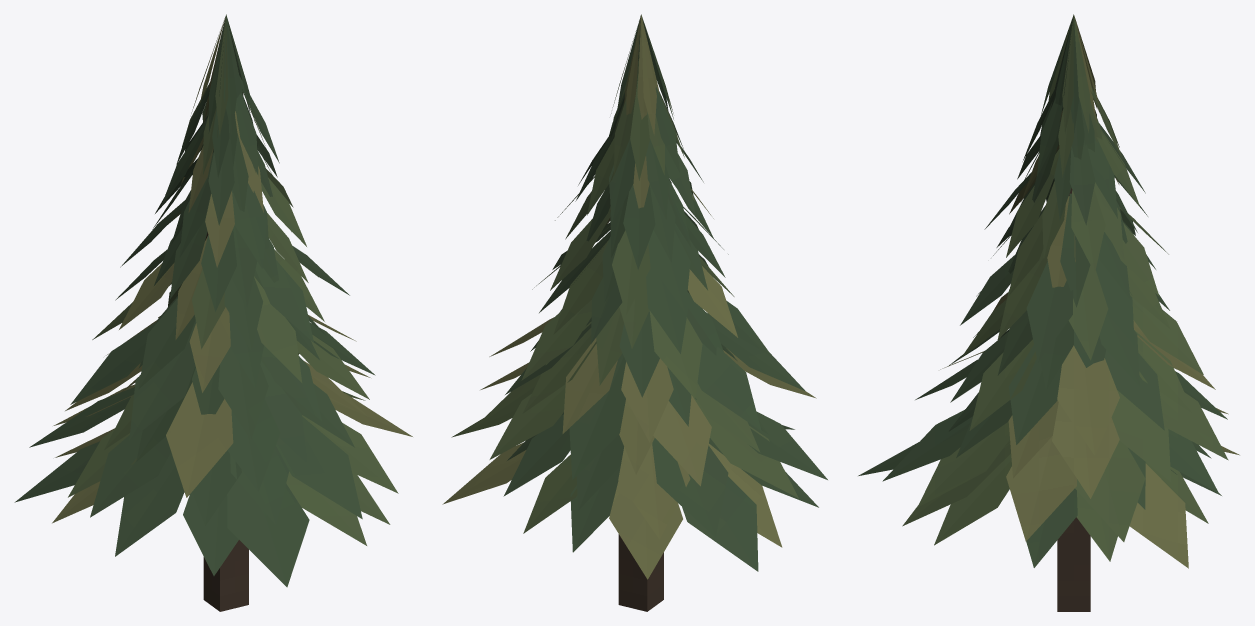
Rendered from spruce.glb.
3 views of the same model, side by side, from view 1: azimuth 30°, elevation 25°; view 2: azimuth 150°, elevation 25°; view 3: azimuth 270°, elevation 25° (orthographic).
Parts seen in each view (by area): view 1: Crown, Trunk; view 2: Crown, Trunk; view 3: Crown, Trunk.
Part boxes in pixels (left/top/right/bottom): Crown: left=14, top=14, right=412, bottom=587; Trunk: left=203, top=232, right=248, bottom=611; Crown: left=442, top=14, right=827, bottom=579; Trunk: left=618, top=534, right=663, bottom=611; Crown: left=858, top=14, right=1239, bottom=568; Trunk: left=1057, top=188, right=1090, bottom=611.
Bounding box in the file's own units: 2.76 × 4.7 × 2.76.
4 materials, 4 textured.
